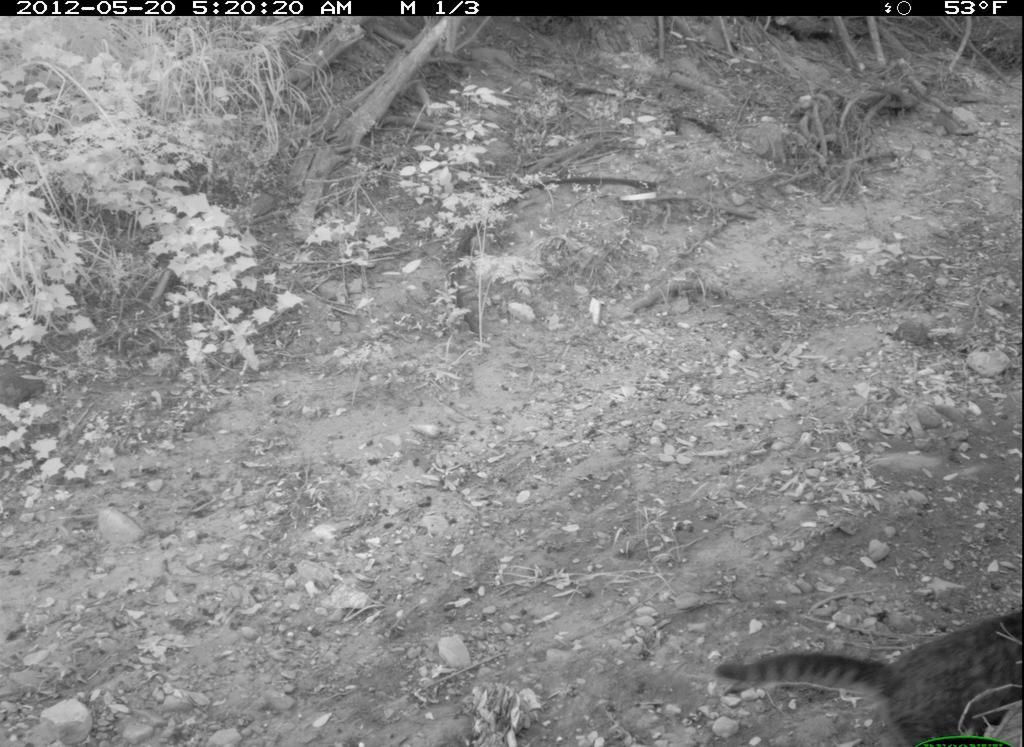cat: (716, 610, 1023, 744)
